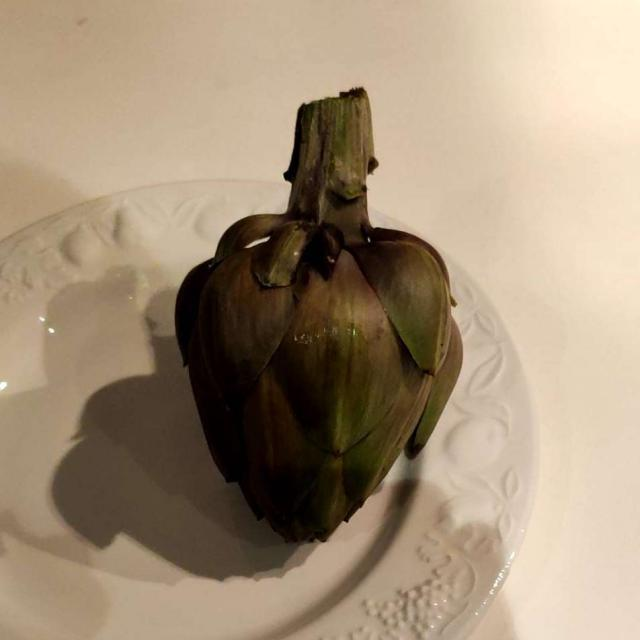artichoke: (178, 91, 453, 537)
